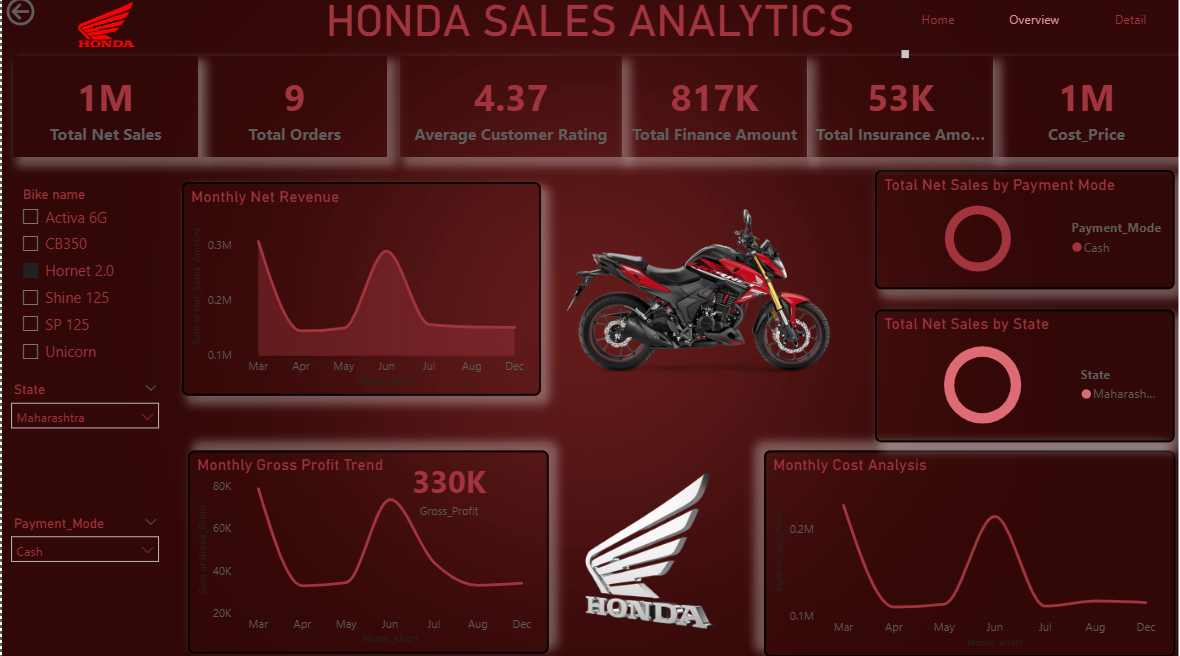

The page's visual inventory and layout, read from the dashboard file:
{"tool":"powerbi","page":{"name":"Overview","canvas":[1280,720],"ordinal":1},"visuals":[{"type":"card","fields":{"Values":["Min(powerbi_bike_images_dataset.Bike name)"]},"box":[251.3,217.3,733.2,300.5],"z":0},{"type":"image","box":[0,0,1269.9,720],"z":1000},{"type":"cardVisual","fields":{"Data":["Min(powerbi_bike_images_dataset.Column2)"]},"box":[328.8,0,854.2,459.2],"z":2000},{"type":"image","box":[0,0,224.9,68],"z":3000},{"type":"card","fields":{"Values":["Sum(Honda All Dataset.Gross_Profit)"]},"box":[381.7,487.6,200.3,94.5],"z":4000},{"type":"card","fields":{"Values":["Sum(Honda All Dataset.Net_Sales_Amount)"]},"box":[11.3,68,200,109.6],"z":5000},{"type":"card","fields":{"Values":["Sum(Honda All Dataset.Cost_Price)"]},"box":[1069.6,68,200.3,109.6],"z":6000},{"type":"lineChart","title":"Monthly Gross Profit Trend","fields":{"Category":["Calender.Month_short"],"Y":["Sum(Honda All Dataset.Gross_Profit)"]},"box":[200.3,493.2,389.3,219.2],"z":7000},{"type":"areaChart","title":"Monthly Net Revenue","fields":{"Category":["Calender.Month_short"],"Y":["Sum(Honda All Dataset.Net_Sales_Amount)"]},"box":[194.6,204.1,387.4,230.6],"z":8000},{"type":"lineChart","title":"Monthly Cost Analysis","fields":{"Y":["Sum(Honda All Dataset.Cost_Price)"],"Category":["Calender.Month_short"]},"box":[822.1,493.2,444.1,223],"z":9000},{"type":"donutChart","title":"Total Net Sales by Payment Mode","fields":{"Y":["Sum(Honda All Dataset.Net_Sales_Amount)"],"Category":["Honda All Dataset.Payment_Mode"]},"box":[943,190.9,323.2,128.5],"z":10000},{"type":"donutChart","title":"Total Net Sales by State","fields":{"Y":["Sum(Honda All Dataset.Net_Sales_Amount)"],"Category":["Honda All Dataset.State"]},"box":[943,342,323.2,143.6],"z":11000},{"type":"card","fields":{"Values":["Sum(Honda All Dataset.Insurance_Amount)"]},"box":[869.3,68,200.3,109.6],"z":12000},{"type":"card","fields":{"Values":["CountNonNull(Honda All Dataset.Order_ID)"]},"box":[215.4,68,200.3,109.6],"z":13000},{"type":"card","fields":{"Values":["Avg(Honda All Dataset.Customer_Rating)"]},"box":[429,68,240,109.6],"z":14000},{"type":"card","fields":{"Values":["Sum(Honda All Dataset.Finance_Amount)"]},"box":[669,68,200.3,109.6],"z":15000},{"type":"actionButton","box":[0,0,100,40],"z":16000},{"type":"textbox","title":"HONDA SALES ANALYTICS","box":[285.4,1.9,699.2,73.7],"z":17000},{"type":"slicer","fields":{"Values":["powerbi_bike_images_dataset.Bike name"]},"box":[9.4,204.1,179.5,211.7],"z":18000},{"type":"slicer","fields":{"Values":["Honda All Dataset.Payment_Mode"]},"box":[0,559.4,179.5,117.2],"z":19000},{"type":"slicer","fields":{"Values":["Honda All Dataset.State"]},"box":[0,413.9,179.5,145.5],"z":20000},{"type":"image","box":[582.1,487.6,219.2,232.4],"z":21000},{"type":"pageNavigator","box":[963.8,1.9,302.4,52.9],"z":22000}]}

Visuals, with their boxes on the page's 1280x720 design canvas (x1, y1, x2, y2). These are canvas units, not pixel positions in the 1180x656 screenshot, which may show the page scaled, cropped or inside an application window:
card - Min(powerbi_bike_images_dataset.Bike name): (left=251, top=217, right=984, bottom=518)
image: (left=0, top=0, right=1270, bottom=720)
cardVisual - Min(powerbi_bike_images_dataset.Column2): (left=329, top=0, right=1183, bottom=459)
image: (left=0, top=0, right=225, bottom=68)
card - Sum(Honda All Dataset.Gross_Profit): (left=382, top=488, right=582, bottom=582)
card - Sum(Honda All Dataset.Net_Sales_Amount): (left=11, top=68, right=211, bottom=178)
card - Sum(Honda All Dataset.Cost_Price): (left=1070, top=68, right=1270, bottom=178)
"Monthly Gross Profit Trend" lineChart: (left=200, top=493, right=590, bottom=712)
"Monthly Net Revenue" areaChart: (left=195, top=204, right=582, bottom=435)
"Monthly Cost Analysis" lineChart: (left=822, top=493, right=1266, bottom=716)
"Total Net Sales by Payment Mode" donutChart: (left=943, top=191, right=1266, bottom=319)
"Total Net Sales by State" donutChart: (left=943, top=342, right=1266, bottom=486)
card - Sum(Honda All Dataset.Insurance_Amount): (left=869, top=68, right=1070, bottom=178)
card - CountNonNull(Honda All Dataset.Order_ID): (left=215, top=68, right=416, bottom=178)
card - Avg(Honda All Dataset.Customer_Rating): (left=429, top=68, right=669, bottom=178)
card - Sum(Honda All Dataset.Finance_Amount): (left=669, top=68, right=869, bottom=178)
actionButton: (left=0, top=0, right=100, bottom=40)
"HONDA SALES ANALYTICS" textbox: (left=285, top=2, right=985, bottom=76)
slicer - powerbi_bike_images_dataset.Bike name: (left=9, top=204, right=189, bottom=416)
slicer - Honda All Dataset.Payment_Mode: (left=0, top=559, right=180, bottom=677)
slicer - Honda All Dataset.State: (left=0, top=414, right=180, bottom=559)
image: (left=582, top=488, right=801, bottom=720)
pageNavigator: (left=964, top=2, right=1266, bottom=55)
